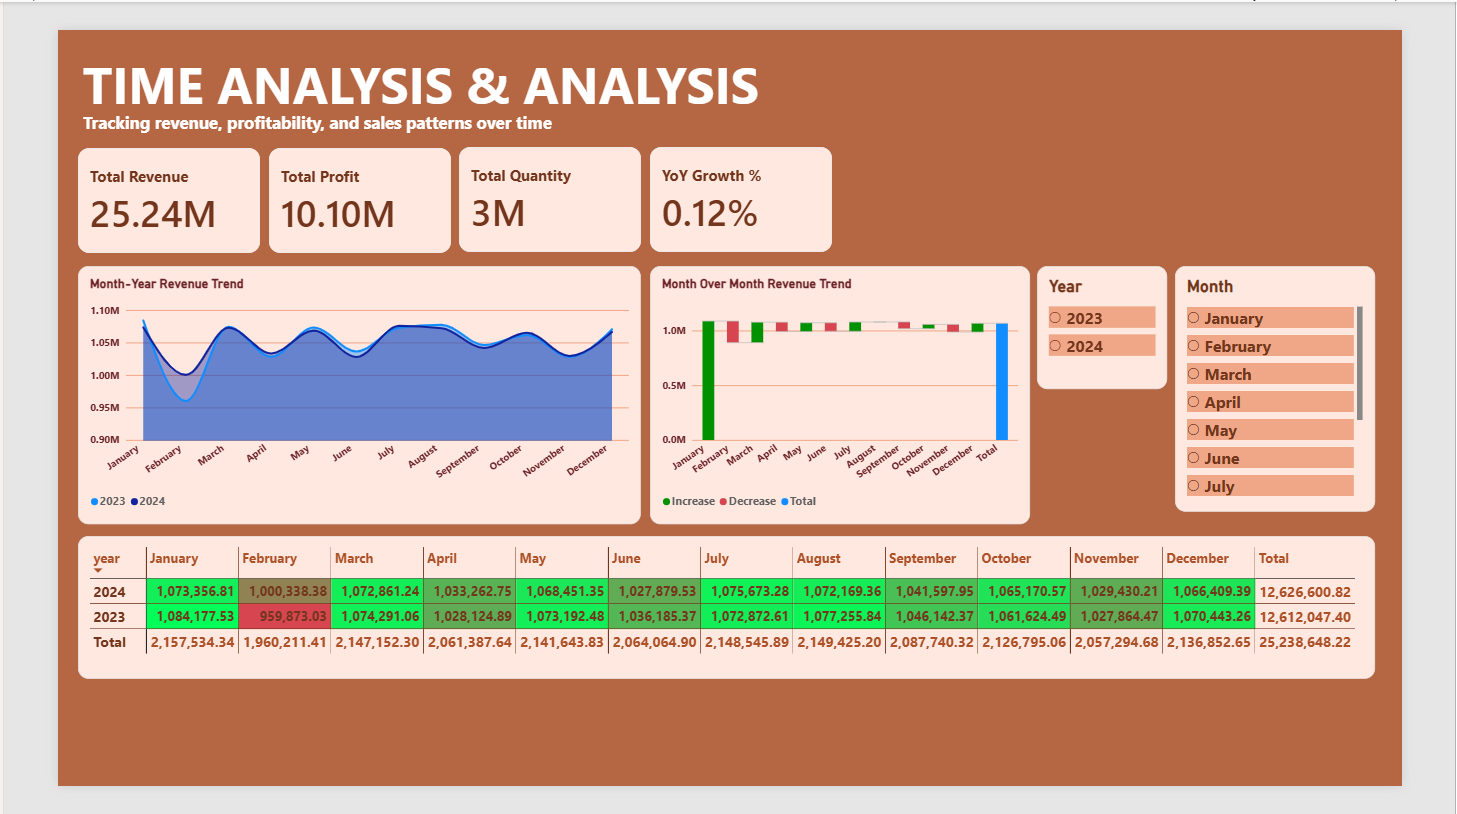

This screenshot's page, from the dashboard's own definition file:
{"tool":"powerbi","page":{"name":"Time Anaylsis & Seasonality","canvas":[1920,1080],"ordinal":4},"visuals":[{"type":"textbox","box":[35,20,1248.3,121.7],"z":0},{"type":"textbox","box":[35.7,55.7,810,122.9],"z":1000},{"type":"cardVisual","fields":{"Data":["sales.Total Revenue"]},"box":[29.1,168.5,260,150],"z":2000},{"type":"cardVisual","fields":{"Data":["sales.Total Profit"]},"box":[301,168.6,260,150],"z":3000},{"type":"cardVisual","fields":{"Data":["sales.Total Quantity"]},"box":[572.4,167.1,260,150],"z":4000},{"type":"cardVisual","fields":{"Data":["sales.YoY Growth %"]},"box":[845.9,167.1,260,150],"z":5000},{"type":"areaChart","title":"Month-Year Revenue Trend","fields":{"Category":["calendar.date.Variation.Date Hierarchy.Year","calendar.date.Variation.Date Hierarchy.Month"],"Series":["calendar.year"],"Y":["sales.Total Revenue"]},"box":[28.6,337.1,804.3,368.6],"z":6000},{"type":"pivotTable","title":"Month-Year Revenue Trend","fields":{"Columns":["calendar.month_name"],"Rows":["calendar.year"],"Values":["sales.Total Revenue"]},"box":[28.6,722.9,1853.5,204.1],"z":7000},{"type":"waterfallChart","title":"Month Over Month Revenue Trend","fields":{"Category":["calendar.date.Variation.Date Hierarchy.Year","calendar.date.Variation.Date Hierarchy.Month"],"Y":["calendar.MoM Revenue Change"]},"box":[845.7,337.1,542.9,368.6],"z":8000},{"type":"listSlicer","title":"Year","fields":{"Values":["calendar.year"]},"box":[1399.2,337.8,186.2,175.6],"z":9000},{"type":"listSlicer","title":"Month","fields":{"Values":["calendar.month_name"]},"box":[1595.7,337.1,285.7,351.4],"z":10000}]}

Visuals, with their boxes in screenshot pixels (x1, y1, x2, y2), scaled from the page's 1920x1080 canvas onto the 1457x814 screenshot:
textbox: detection(27, 15, 974, 107)
textbox: detection(27, 42, 642, 135)
cardVisual - sales.Total Revenue: detection(22, 127, 219, 240)
cardVisual - sales.Total Profit: detection(228, 127, 426, 240)
cardVisual - sales.Total Quantity: detection(434, 126, 632, 239)
cardVisual - sales.YoY Growth %: detection(642, 126, 839, 239)
"Month-Year Revenue Trend" areaChart: detection(22, 254, 632, 532)
"Month-Year Revenue Trend" pivotTable: detection(22, 545, 1428, 699)
"Month Over Month Revenue Trend" waterfallChart: detection(642, 254, 1054, 532)
"Year" listSlicer: detection(1062, 255, 1203, 387)
"Month" listSlicer: detection(1211, 254, 1428, 519)
